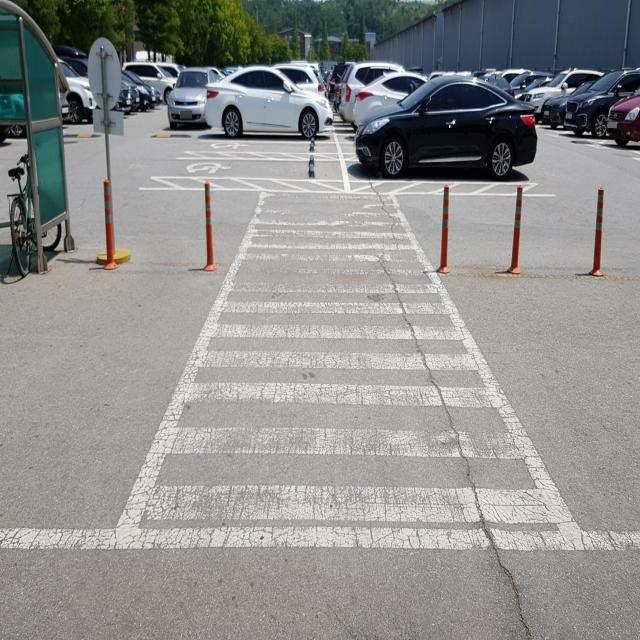횡단보도: (140, 195, 559, 528)
